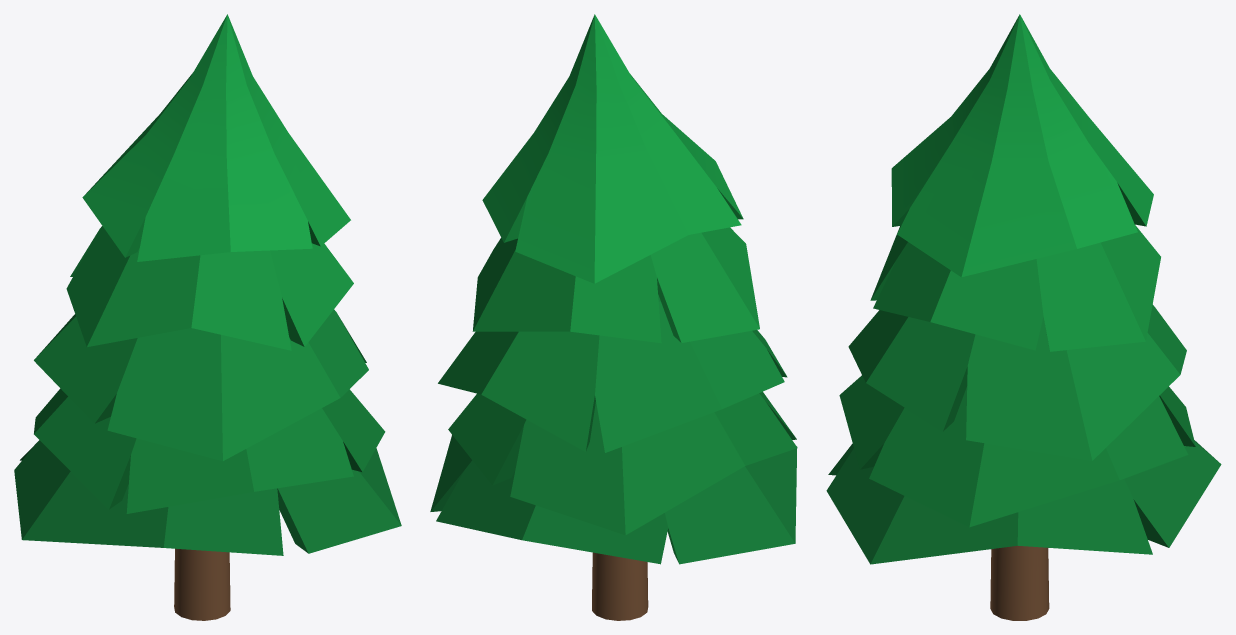
Rendered from Spruce_DarkGreen_Thick_1.fbx.
The picture shows the model from 3 angles, left to right: view 1: azimuth 30°, elevation 25°; view 2: azimuth 150°, elevation 25°; view 3: azimuth 270°, elevation 25°; orthographic projection. The views are drawn at different scales.
Visible parts, largest first — view 1: Cylinder.052, Cylinder.051, Cylinder.050, Cylinder.048, Cylinder.049, Cylinder.047; view 2: Cylinder.052, Cylinder.051, Cylinder.049, Cylinder.050, Cylinder.048, Cylinder.047; view 3: Cylinder.052, Cylinder.051, Cylinder.049, Cylinder.050, Cylinder.048, Cylinder.047.
Part boxes in pixels (x1,y1,x2,y2): Cylinder.052: [82, 14, 350, 261]; Cylinder.051: [34, 309, 368, 461]; Cylinder.050: [66, 226, 353, 350]; Cylinder.048: [14, 440, 401, 555]; Cylinder.049: [34, 388, 385, 513]; Cylinder.047: [174, 548, 230, 620]; Cylinder.052: [482, 14, 743, 283]; Cylinder.051: [438, 294, 787, 452]; Cylinder.049: [448, 391, 797, 535]; Cylinder.050: [472, 227, 759, 343]; Cylinder.048: [430, 435, 796, 564]; Cylinder.047: [592, 552, 648, 620]; Cylinder.052: [891, 14, 1153, 277]; Cylinder.051: [848, 304, 1186, 460]; Cylinder.049: [839, 375, 1195, 527]; Cylinder.050: [870, 225, 1160, 351]; Cylinder.048: [826, 440, 1221, 564]; Cylinder.047: [990, 545, 1049, 620].
Size of the model in its own units: 347 by 567 by 334.
